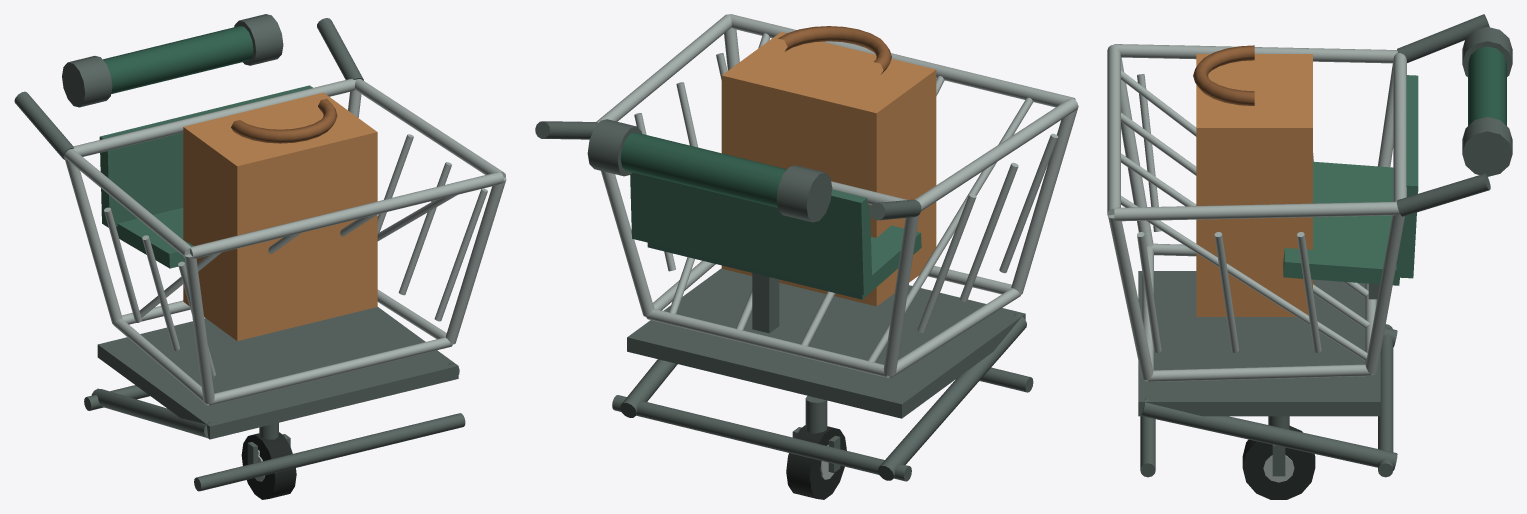
File: customer-cart.glb
The picture shows the model from 3 angles, left to right: view 1: azimuth 30°, elevation 25°; view 2: azimuth 150°, elevation 25°; view 3: azimuth 270°, elevation 25°; orthographic projection. The views are drawn at different scales.
Parts seen in each view (by area): view 1: n10, n3, n2, n4, n6, n7, n13, n11, n12; view 2: n3, n2, n10, n4, n6, n7, n13, n11, n12; view 3: n3, n2, n10, n4, n7, n13, n6, n11, n12.
Boxes of the visible parts, <box> form: n10: <box>183,92,377,340</box>; n3: <box>14,18,465,491</box>; n2: <box>64,79,506,405</box>; n4: <box>99,85,312,268</box>; n6: <box>103,26,253,93</box>; n7: <box>62,14,283,107</box>; n13: <box>241,432,296,499</box>; n11: <box>231,98,337,143</box>; n12: <box>247,423,290,464</box>; n3: <box>535,121,1033,481</box>; n2: <box>596,14,1078,377</box>; n10: <box>721,32,936,306</box>; n4: <box>630,172,921,299</box>; n6: <box>620,132,786,207</box>; n7: <box>587,119,832,222</box>; n13: <box>786,425,846,499</box>; n11: <box>778,26,891,74</box>; n12: <box>792,396,840,472</box>; n3: <box>1138,14,1490,477</box>; n2: <box>1107,44,1406,381</box>; n10: <box>1196,54,1312,316</box>; n4: <box>1283,75,1418,285</box>; n7: <box>1462,27,1512,176</box>; n13: <box>1242,426,1315,499</box>; n6: <box>1468,46,1506,125</box>; n11: <box>1193,45,1254,105</box>; n12: <box>1268,416,1289,476</box>.
Size of the model in its own units: 0.7617 by 0.8887 by 0.7691.
